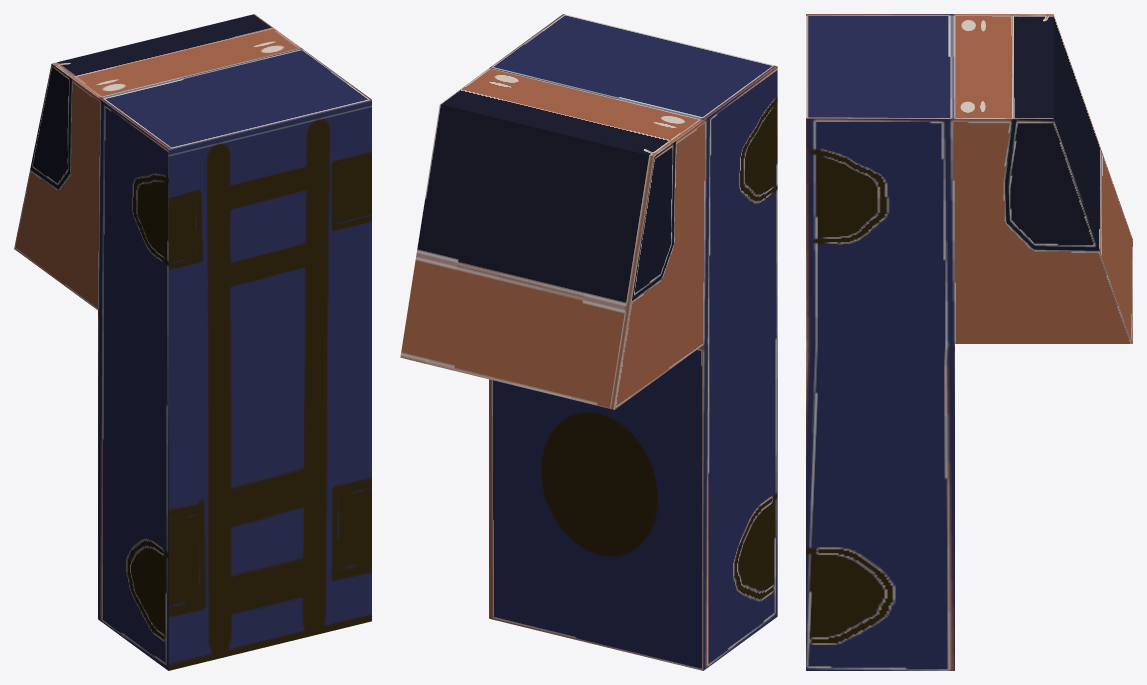
Rendered from SemiTruck.fbx.
3 views of the same model, side by side, from view 1: azimuth 30°, elevation 25°; view 2: azimuth 150°, elevation 25°; view 3: azimuth 270°, elevation 25° (orthographic). The views are drawn at different scales.
Parts seen in each view (by area): view 1: Cube; view 2: Cube; view 3: Cube.
Boxes of the visible parts, x1,y1,x2,y2 form: Cube: [14, 14, 371, 670]; Cube: [400, 14, 777, 670]; Cube: [806, 14, 1132, 670].
Bounding box in the file's own units: 200 × 490 × 263.
